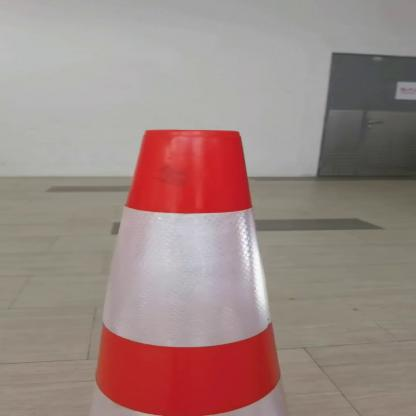cone: (82, 125, 307, 416)
